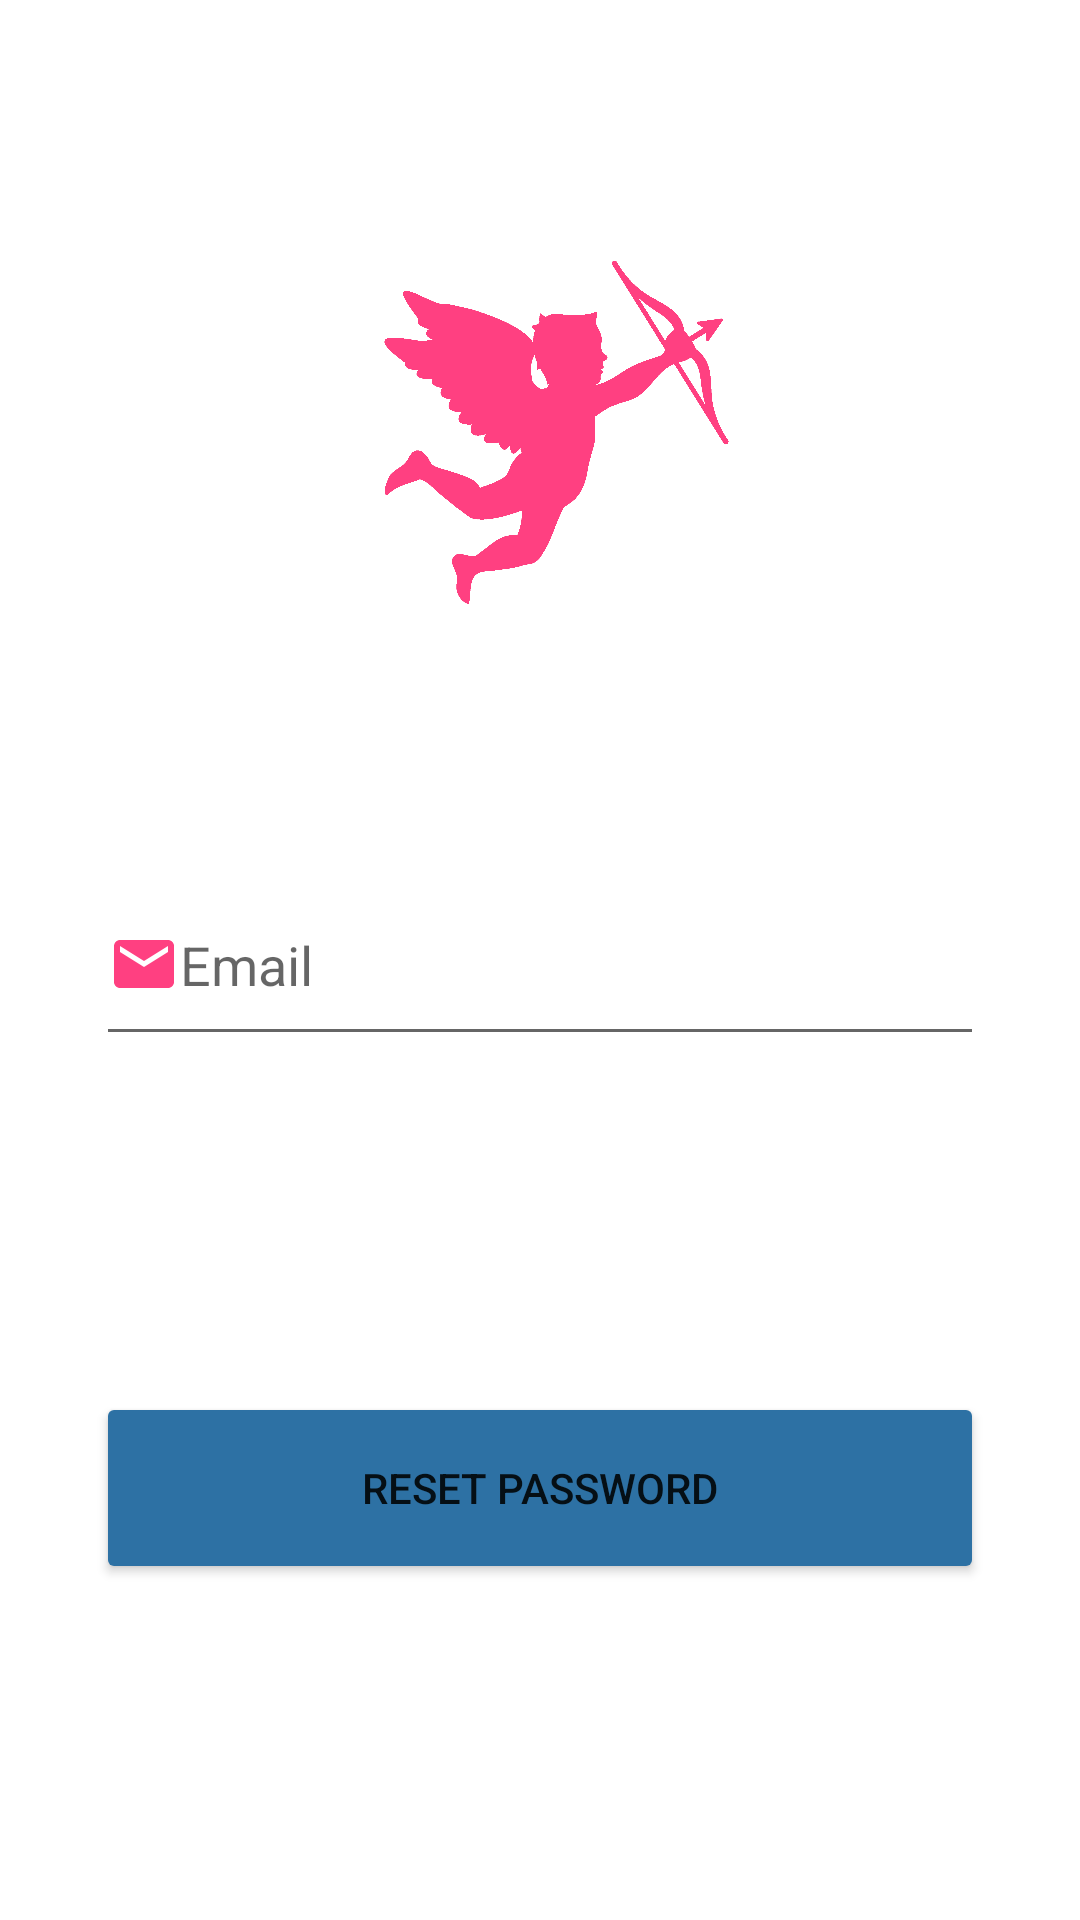

Screen size 1080w x 1920h. Icon name, then its box in pixels as [x1,y1,x2,y2]:
cupid: [384,261,729,604]
